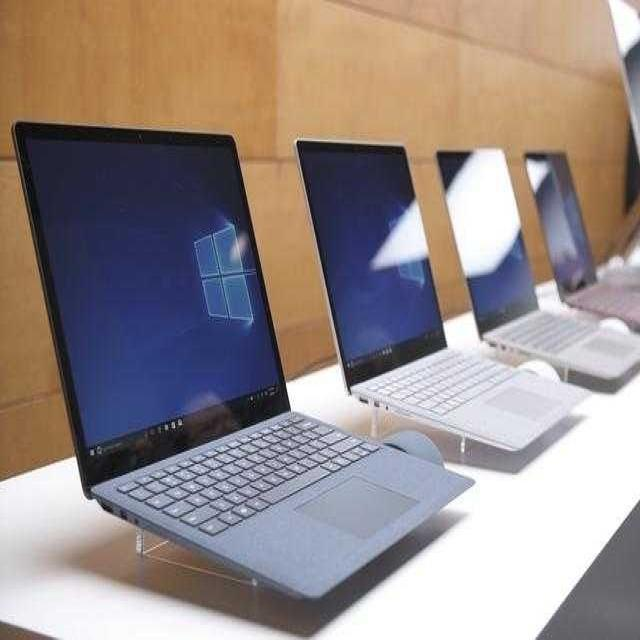laptop: (33, 120, 461, 618), (290, 134, 570, 466), (431, 144, 640, 379)
